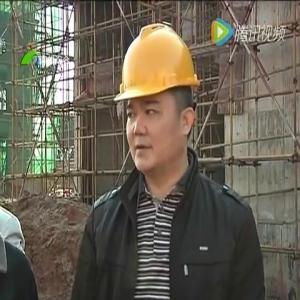yellow: (117, 23, 198, 177)
